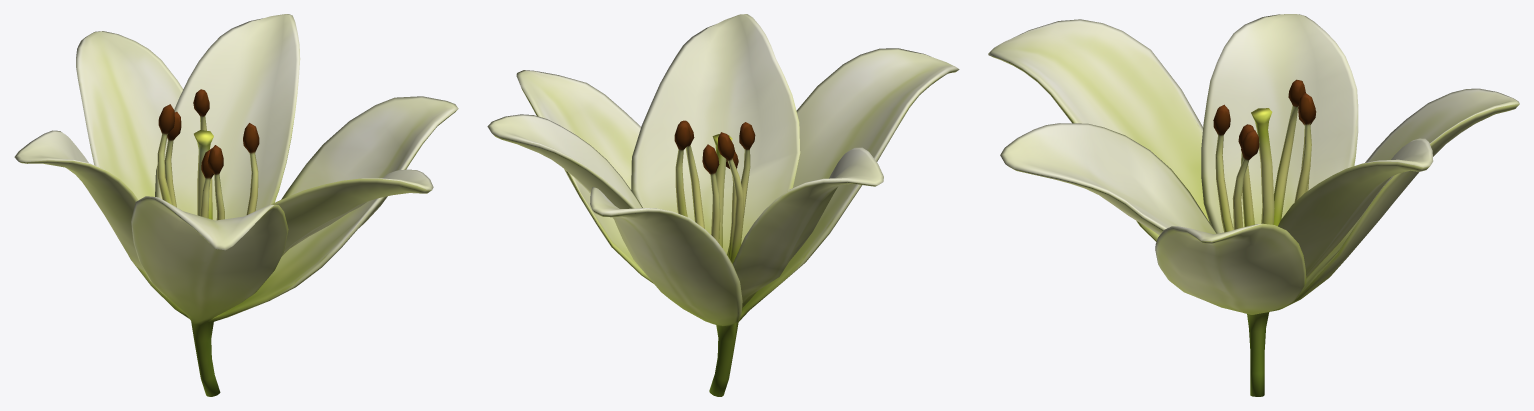
Rendered from BaiHe.FBX.
3 renders of one model, left to right at view 1: azimuth 30°, elevation 25°; view 2: azimuth 150°, elevation 25°; view 3: azimuth 270°, elevation 25°, orthographic. The views are drawn at different scales.
Parts seen in each view (by area): view 1: BaiHe; view 2: BaiHe; view 3: BaiHe.
Boxes of the visible parts, x1=… form: BaiHe: x1=14, y1=14, x2=458, y2=396; BaiHe: x1=487, y1=14, x2=959, y2=396; BaiHe: x1=988, y1=14, x2=1519, y2=396.
Size of the model in its own units: 110 by 76.14 by 117.
1 material, 1 textured.
